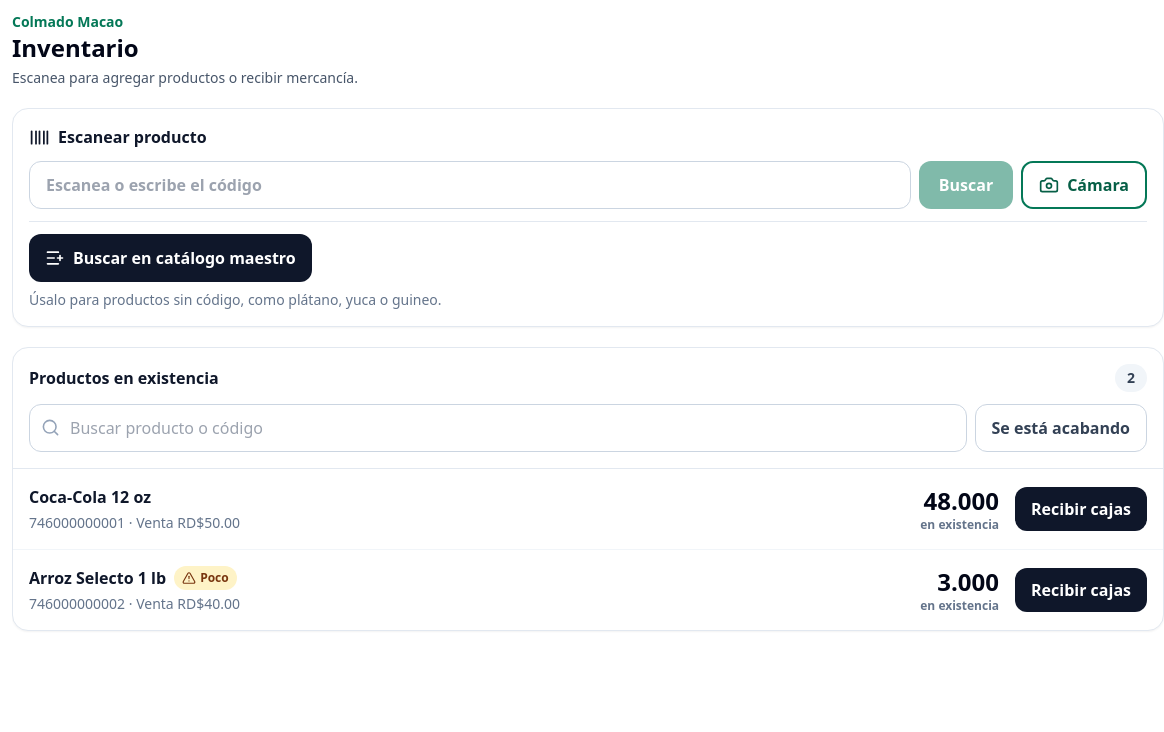
it: InventoryPanel › searches locally by product name or barcode
Expected: the heading "Coca-Cola 12 oz" is shown, [29,486,151,508]
Type "746000000002" into the field named "Buscar en el inventario" at coordinates (498, 428), box [29,404,966,452]
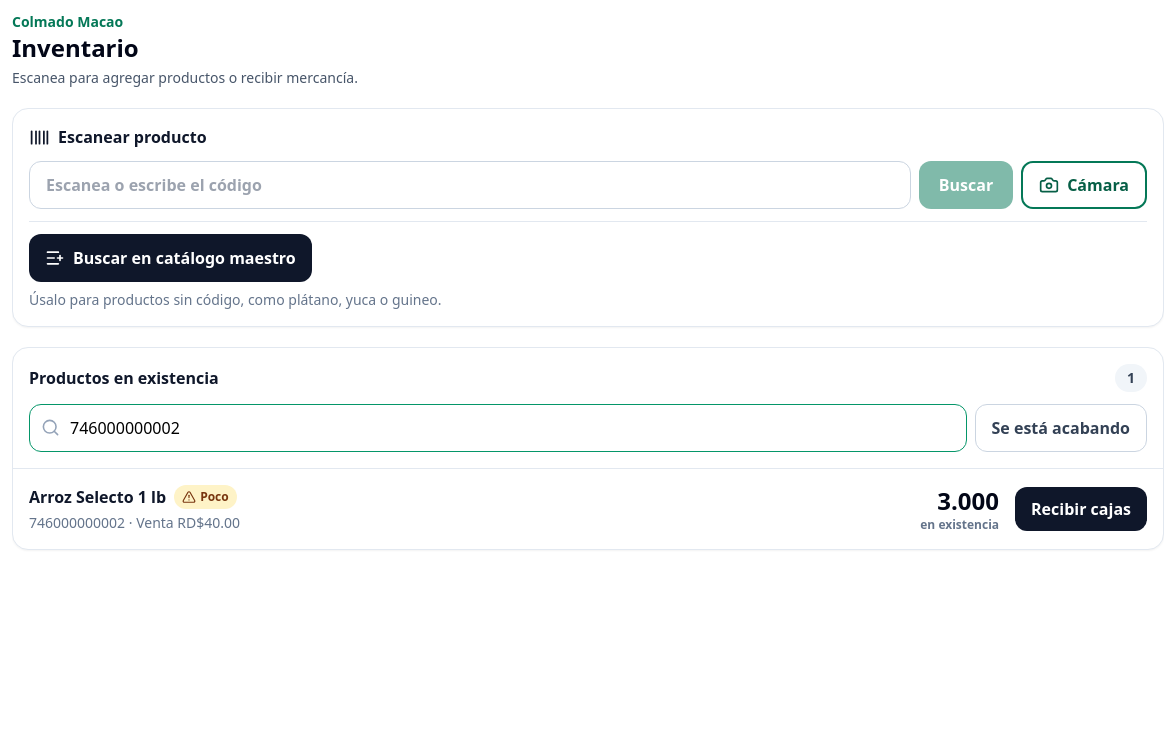
Expected: the heading "Arroz Selecto 1 lb" is shown, [29,486,166,508]
Now the heading "Coca-Cola 12 oz" is gone
